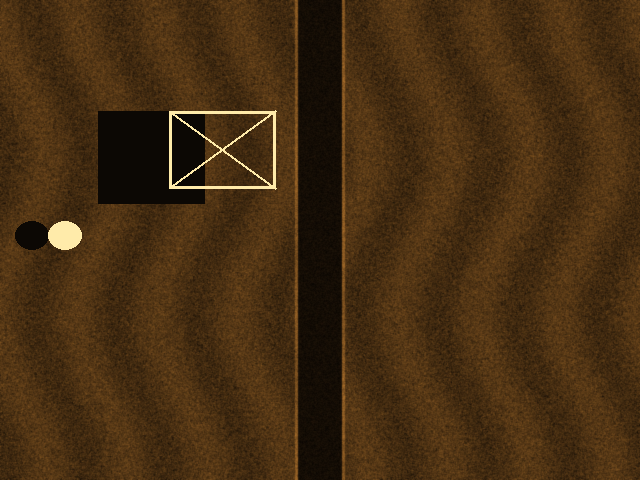Abandoned Equipment: (169, 111, 275, 188)
Glass Debris: (48, 221, 81, 249)
